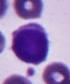L: (10, 24, 50, 64)
